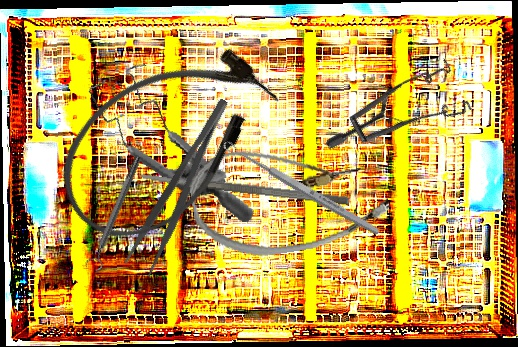Cannula: (33, 17, 299, 266), (185, 129, 394, 267)
Dressing Forceps: (121, 95, 246, 279)
Fixation Ring: (82, 153, 149, 274)
Spatula Surgical: (139, 170, 350, 207)
Speculum: (67, 53, 281, 224), (323, 32, 487, 203)
Surgical Spoon: (221, 138, 382, 238)
